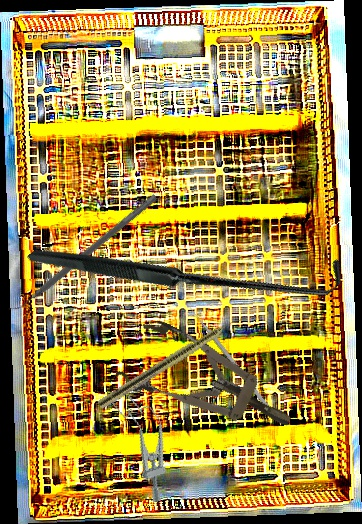Handpiece: (96, 309, 250, 412)
Hook Surgical: (26, 103, 351, 428)
Pusher: (181, 297, 279, 420)
Spatula Surgical: (5, 187, 159, 320)
Speculum: (112, 313, 305, 457), (110, 384, 184, 506)
